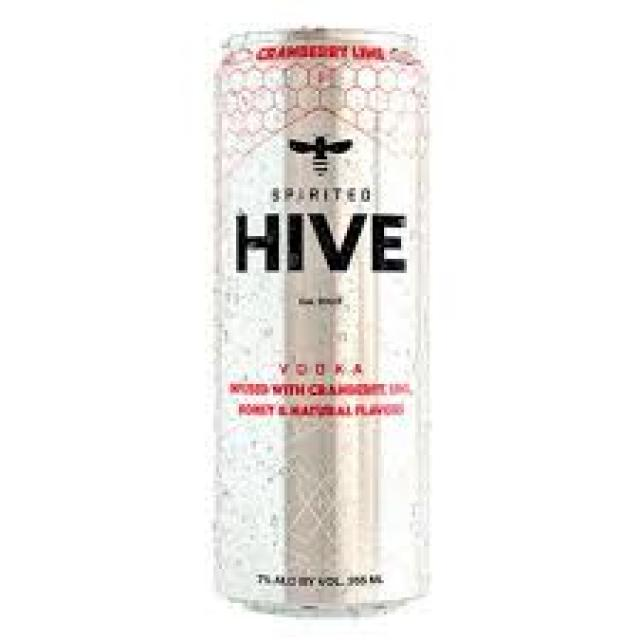Cans: (208, 22, 452, 628)
